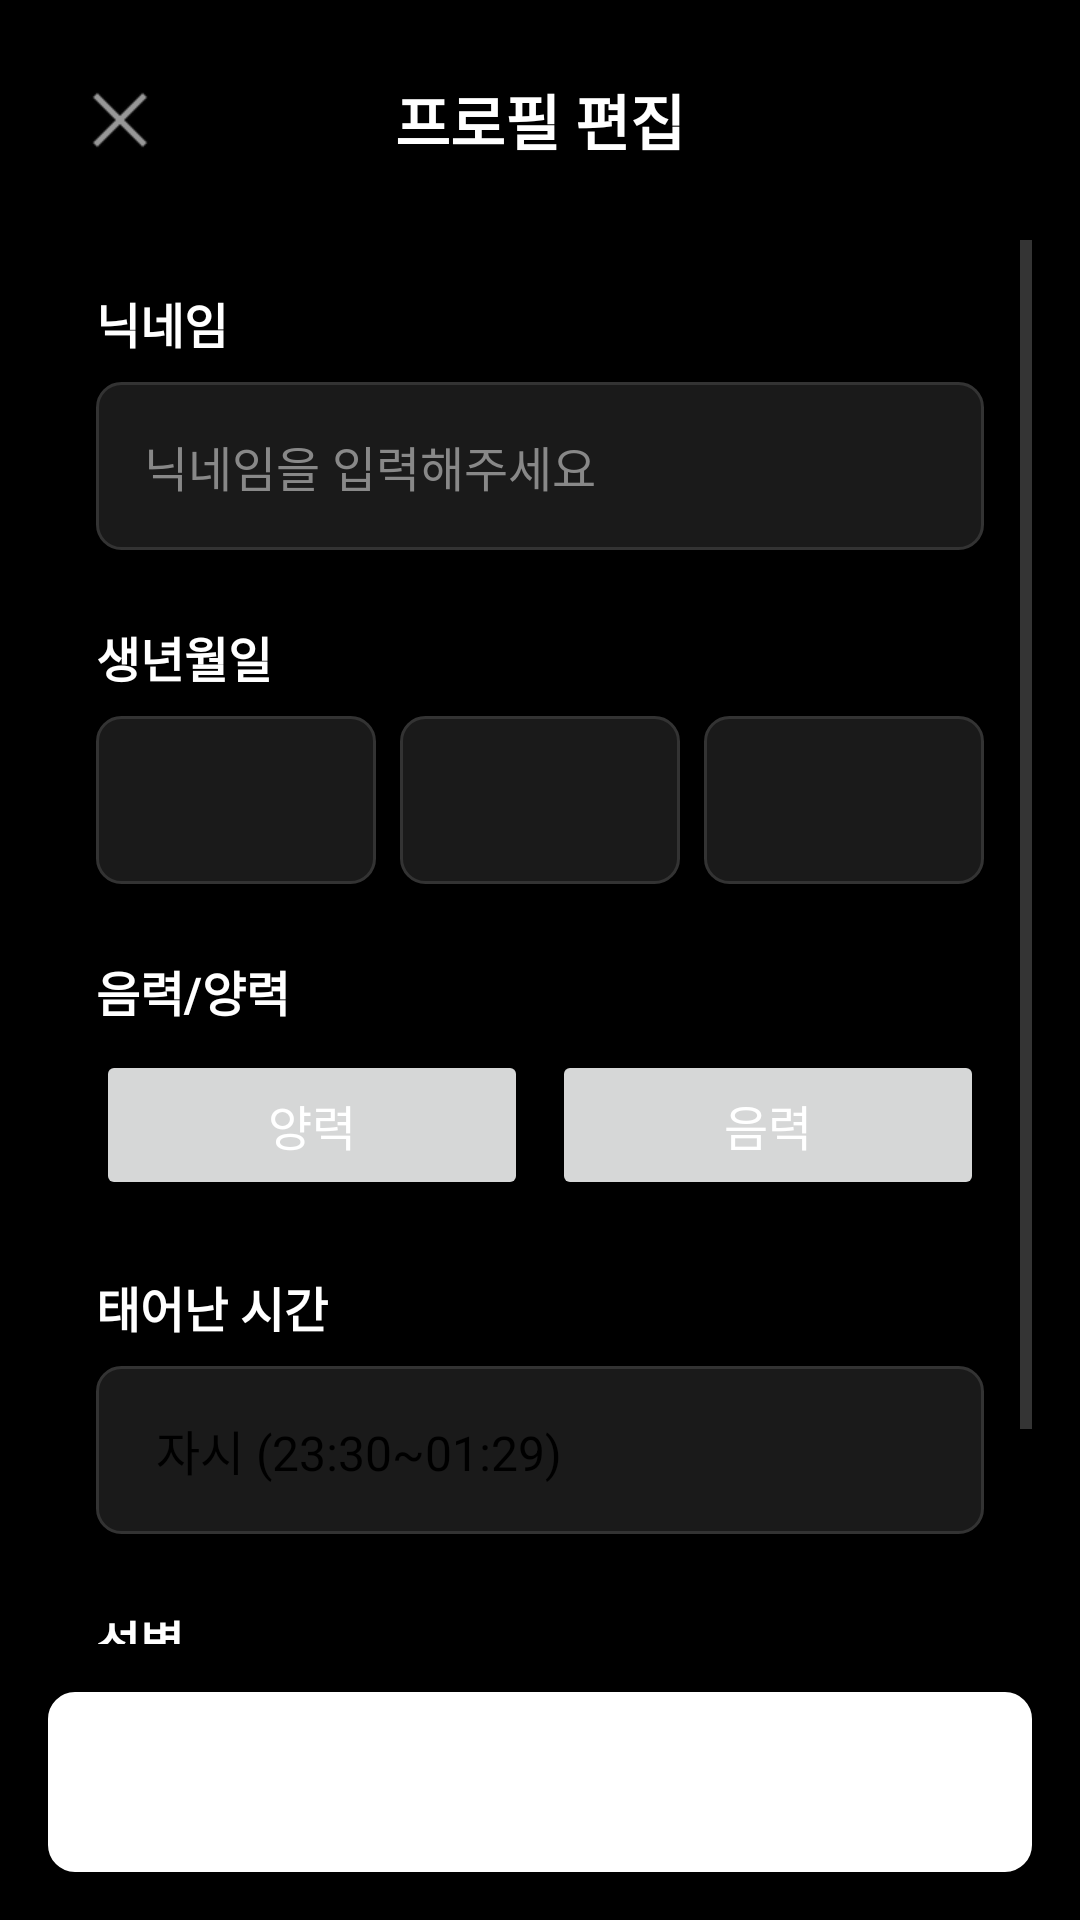

Icon click points for this 1080px×1920px phone screenshot, format (x,y):
뒤로가기: (120,120)
